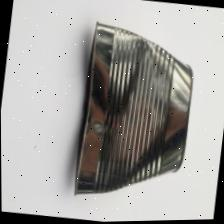metal: (50, 13, 204, 223)
